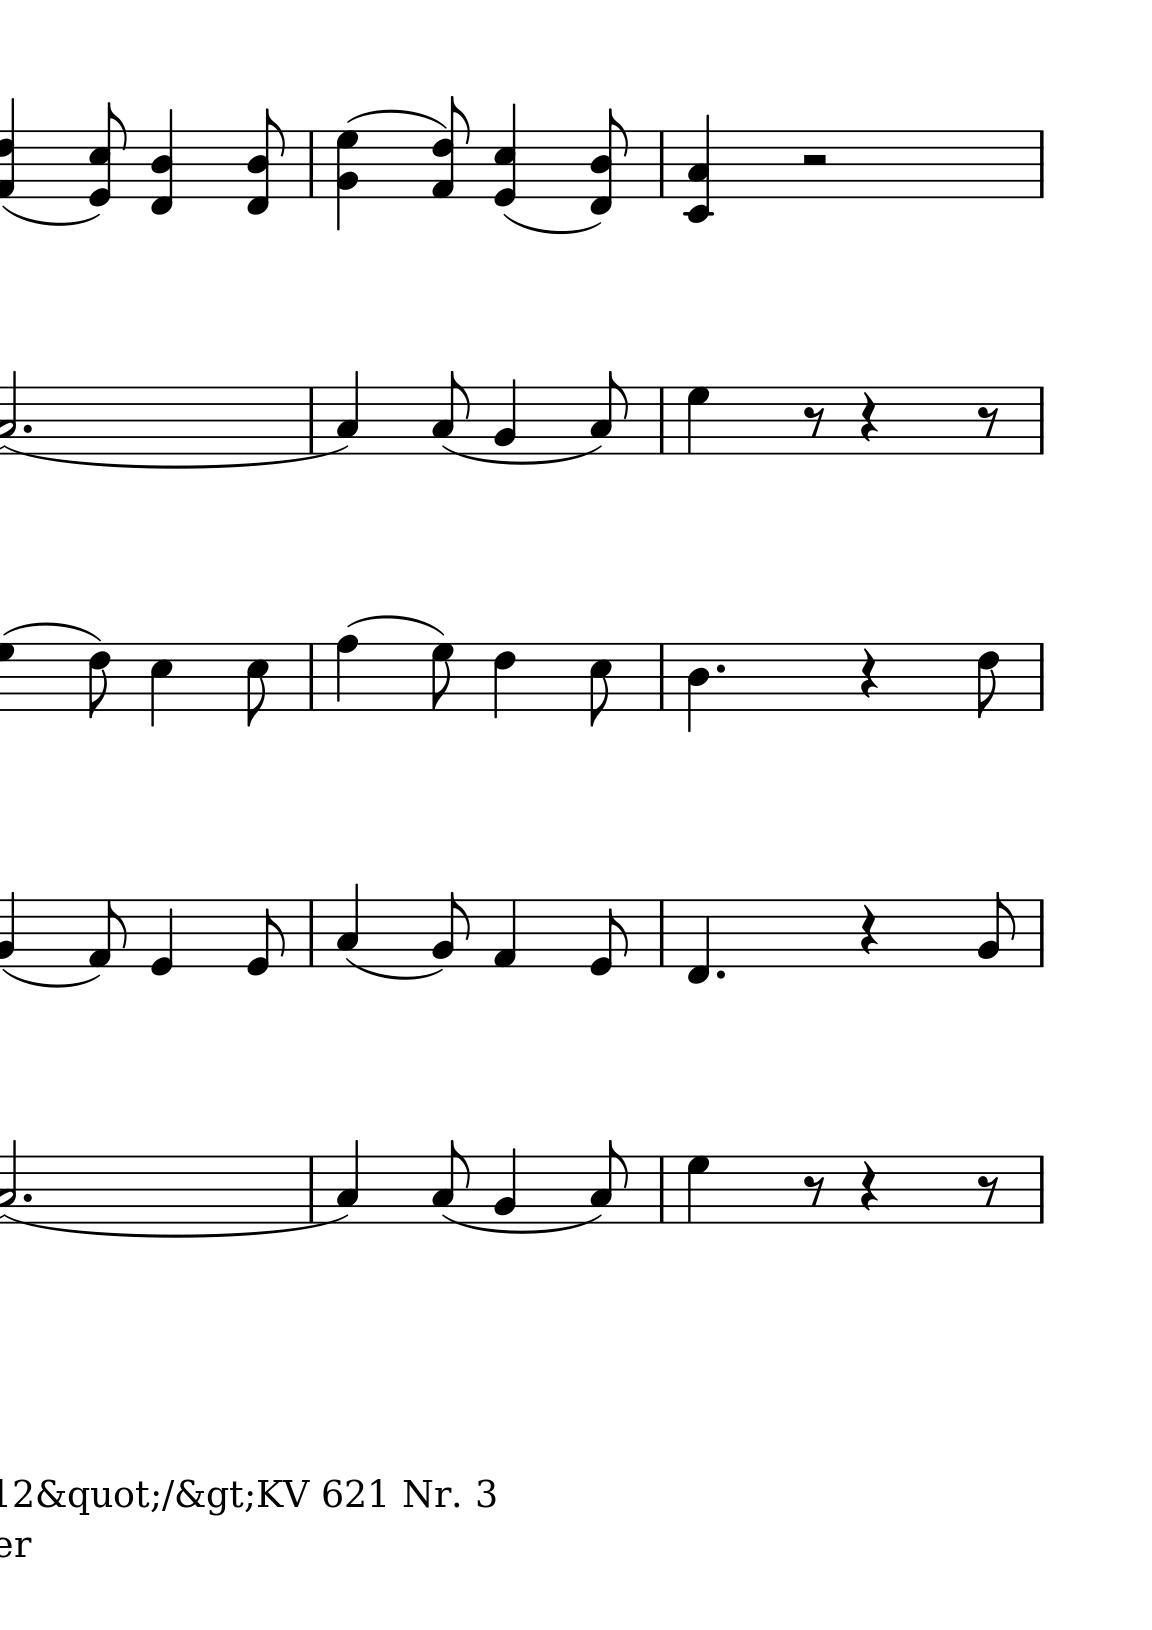4_-1: (684, 897, 709, 984)
4_-1_3: (684, 113, 718, 224)
4_-1_4: (151, 108, 175, 216)
4_0: (148, 898, 175, 978)
4_0_5: (494, 103, 517, 208)
4_1: (490, 898, 517, 970)
4_2: (492, 376, 517, 454), (492, 1146, 517, 1222)
4_2_7: (335, 128, 359, 231)
4_3: (334, 1138, 360, 1224), (335, 369, 360, 456), (335, 882, 359, 968)
4_4: (684, 642, 709, 734)
4_5: (148, 641, 172, 729)
4_6: (491, 642, 516, 722)
4_7: (684, 1154, 711, 1225), (684, 384, 709, 456)
4_8: (333, 633, 358, 713)
8_-1_4: (246, 107, 289, 216), (590, 107, 630, 216)
8_0: (588, 898, 628, 977), (246, 898, 283, 977)
8_0_5: (89, 102, 128, 208)
8_1: (86, 898, 128, 970)
8_1_6: (431, 96, 471, 201)
8_2: (976, 890, 1016, 968), (430, 890, 469, 967)
8_3: (430, 369, 470, 456), (588, 368, 628, 455), (588, 1137, 628, 1224), (430, 1139, 470, 1225)
8_5: (244, 641, 269, 728), (587, 642, 612, 728)
8_6: (974, 642, 1000, 722), (86, 641, 111, 719)
8_7: (429, 642, 453, 712)
Rests2: (797, 151, 830, 169)
Rests4: (857, 1159, 878, 1214), (858, 390, 878, 445), (858, 647, 878, 702), (858, 903, 878, 958)
Rests8: (800, 1173, 825, 1208), (976, 1173, 1001, 1208), (802, 404, 825, 439), (976, 404, 1000, 439)
Single_barline: (302, 131, 320, 197), (302, 1156, 320, 1222), (302, 388, 320, 452), (1032, 131, 1050, 199), (1032, 643, 1050, 712), (303, 643, 320, 710), (653, 388, 671, 454), (1032, 388, 1050, 454), (653, 1156, 671, 1222), (1032, 1156, 1050, 1222), (302, 900, 319, 965), (652, 901, 670, 966), (653, 644, 670, 710), (1032, 900, 1049, 966), (653, 132, 670, 197)
Slur: (4, 1213, 352, 1241), (2, 446, 347, 471), (443, 446, 606, 465), (440, 1214, 598, 1232), (345, 956, 443, 982), (349, 616, 448, 639), (2, 967, 100, 989), (347, 108, 448, 130), (2, 621, 103, 642), (505, 214, 601, 236)
dot: (712, 662, 728, 675), (20, 421, 32, 436), (20, 1190, 32, 1205), (713, 968, 727, 981)
